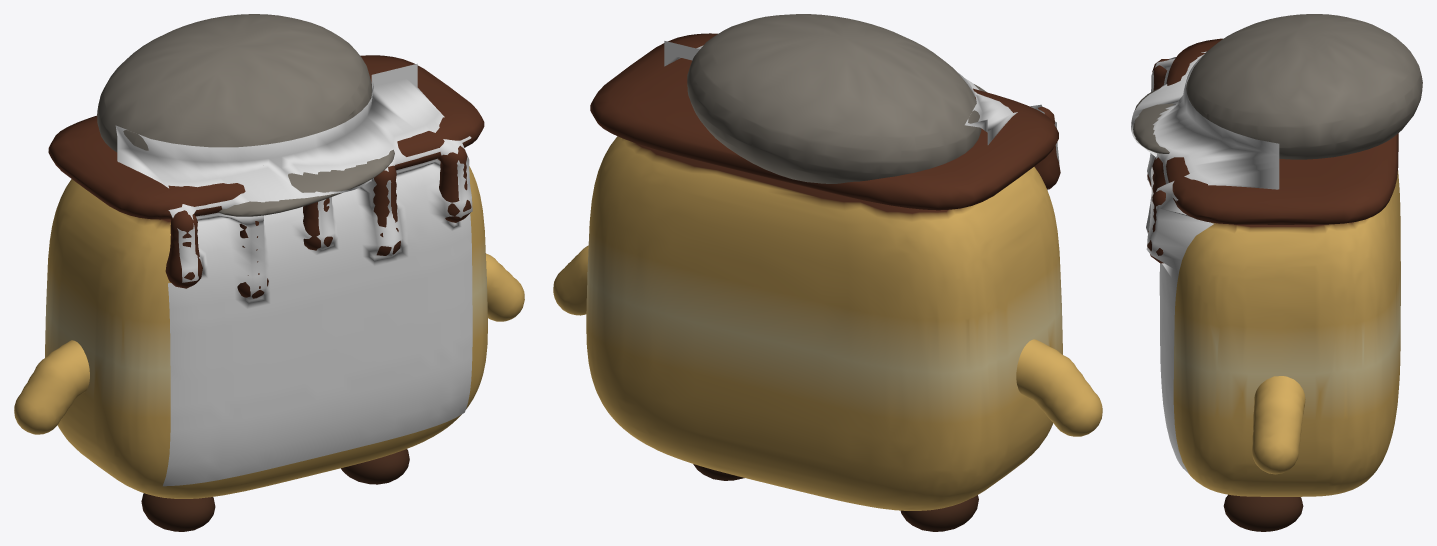
The model's file is folk2_sully_lod1.glb.
3 renders of one model, left to right at view 1: azimuth 30°, elevation 25°; view 2: azimuth 150°, elevation 25°; view 3: azimuth 270°, elevation 25°, orthographic. The views are drawn at different scales.
Parts seen in each view (by area): view 1: sully_face, sully_body, sully_arm_l, sully_foot_l, sully_arm_r, sully_foot_r; view 2: sully_body, sully_arm_l, sully_face, sully_arm_r, sully_foot_l; view 3: sully_body, sully_face, sully_arm_r, sully_foot_r.
Part boxes in pixels (left/top/right/bottom): sully_face: left=115, top=63, right=472, bottom=486; sully_body: left=45, top=14, right=487, bottom=498; sully_arm_l: left=14, top=340, right=89, bottom=434; sully_foot_l: left=141, top=493, right=215, bottom=531; sully_arm_r: left=486, top=253, right=524, bottom=321; sully_foot_r: left=341, top=449, right=409, bottom=484; sully_body: left=586, top=14, right=1062, bottom=510; sully_arm_l: left=1016, top=339, right=1102, bottom=436; sully_face: left=664, top=41, right=1059, bottom=189; sully_arm_r: left=553, top=245, right=588, bottom=315; sully_foot_l: left=900, top=495, right=978, bottom=531; sully_body: left=1133, top=14, right=1422, bottom=496; sully_face: left=1131, top=51, right=1279, bottom=473; sully_arm_r: left=1252, top=376, right=1305, bottom=474; sully_foot_r: left=1223, top=494, right=1303, bottom=531.
Bounding box in the file's own units: 1.24 × 1.06 × 0.637.
